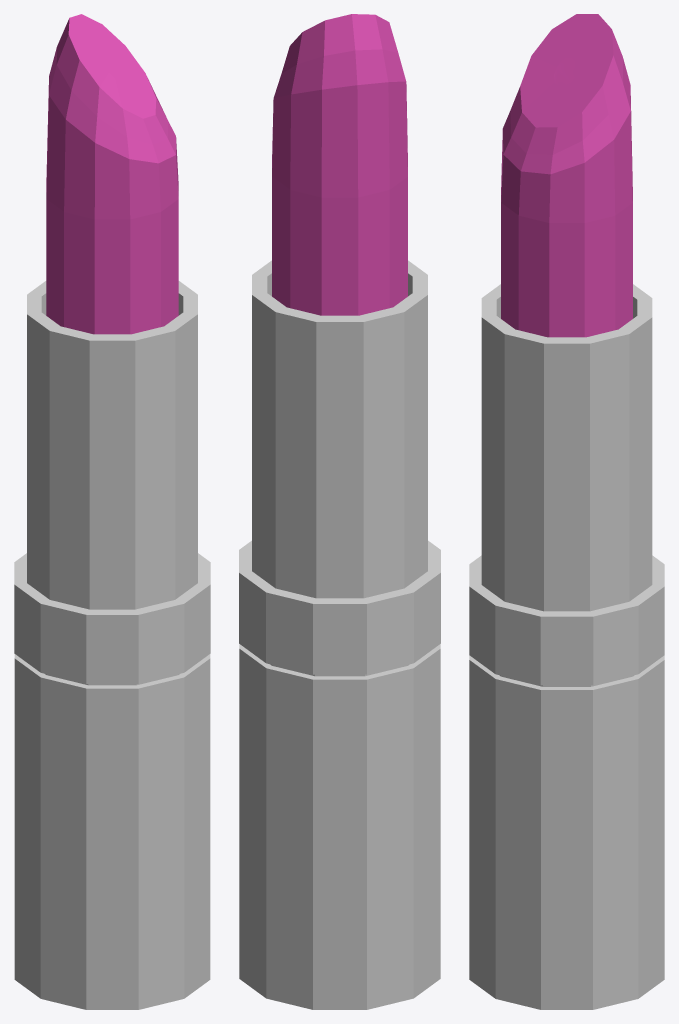
File: lipstick.fbx
3 renders of one model, left to right at view 1: azimuth 30°, elevation 25°; view 2: azimuth 150°, elevation 25°; view 3: azimuth 270°, elevation 25°, orthographic. The views are drawn at different scales.
Visible parts, largest first — view 1: lipstick; view 2: lipstick; view 3: lipstick.
Part boxes in pixels (x1=…): lipstick: x1=14, y1=14, x2=210, y2=1009; lipstick: x1=239, y1=14, x2=440, y2=1009; lipstick: x1=469, y1=14, x2=664, y2=1009.
Size of the model in its own units: 56.66 by 301 by 56.66.
